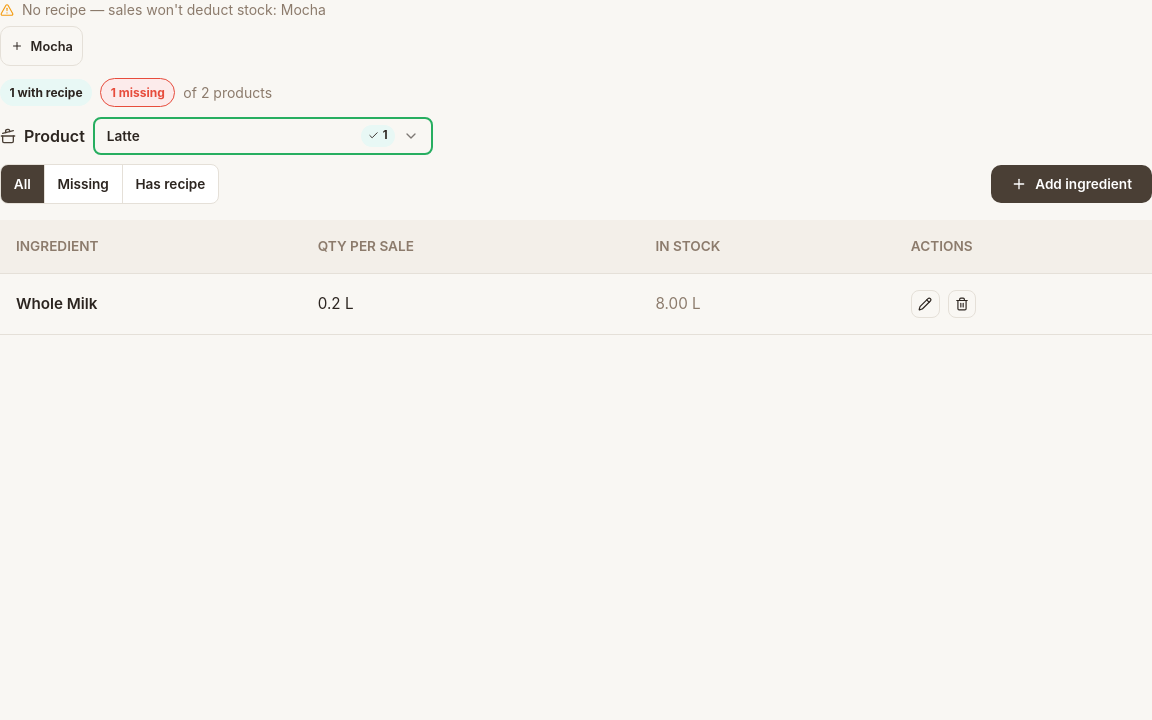
Test: RecipeManager › should ask for confirmation before removing a line, and cancel cleanly
The width and height of the screenshot is (1152, 720).
Step 1. Click the button with test id "recipe-delete-0" → (962, 304), box [948,290,976,318]
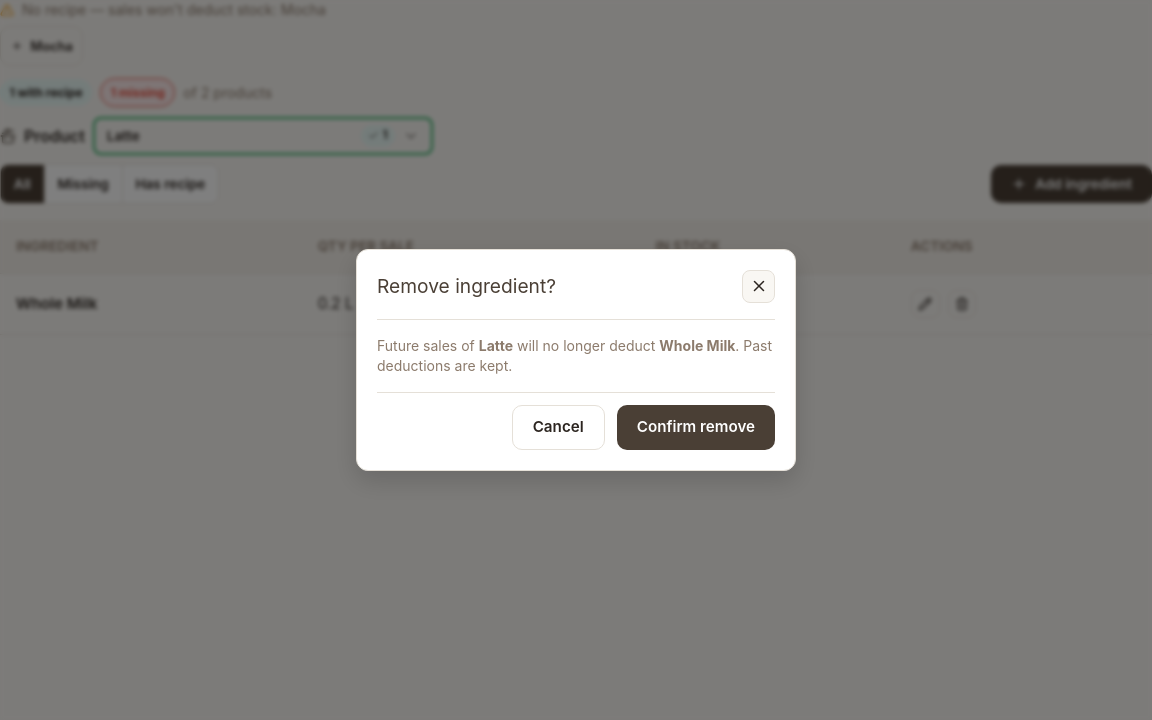
Expected: the dialog with test id "recipe-delete-modal" shows "Whole Milk", [659,337,735,354]
Step 2. Click the button with test id "recipe-delete-cancel" → (558, 427), box [512,405,605,450]
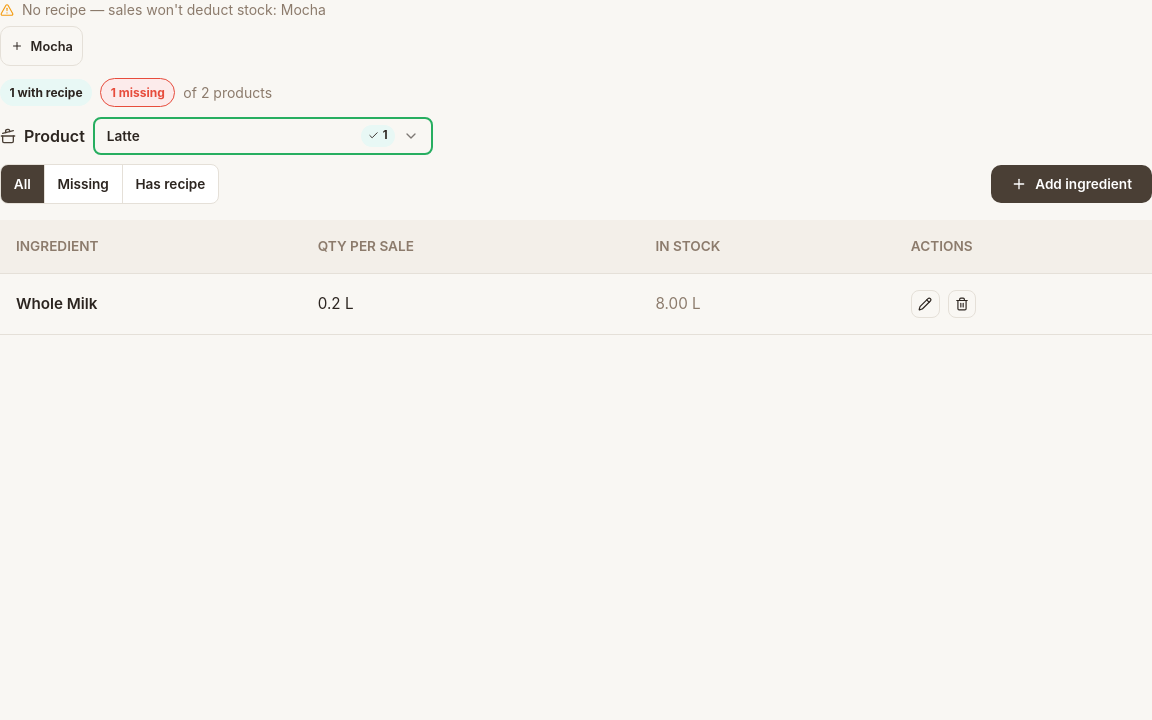
Expected: the dialog with test id "recipe-delete-modal" is gone
